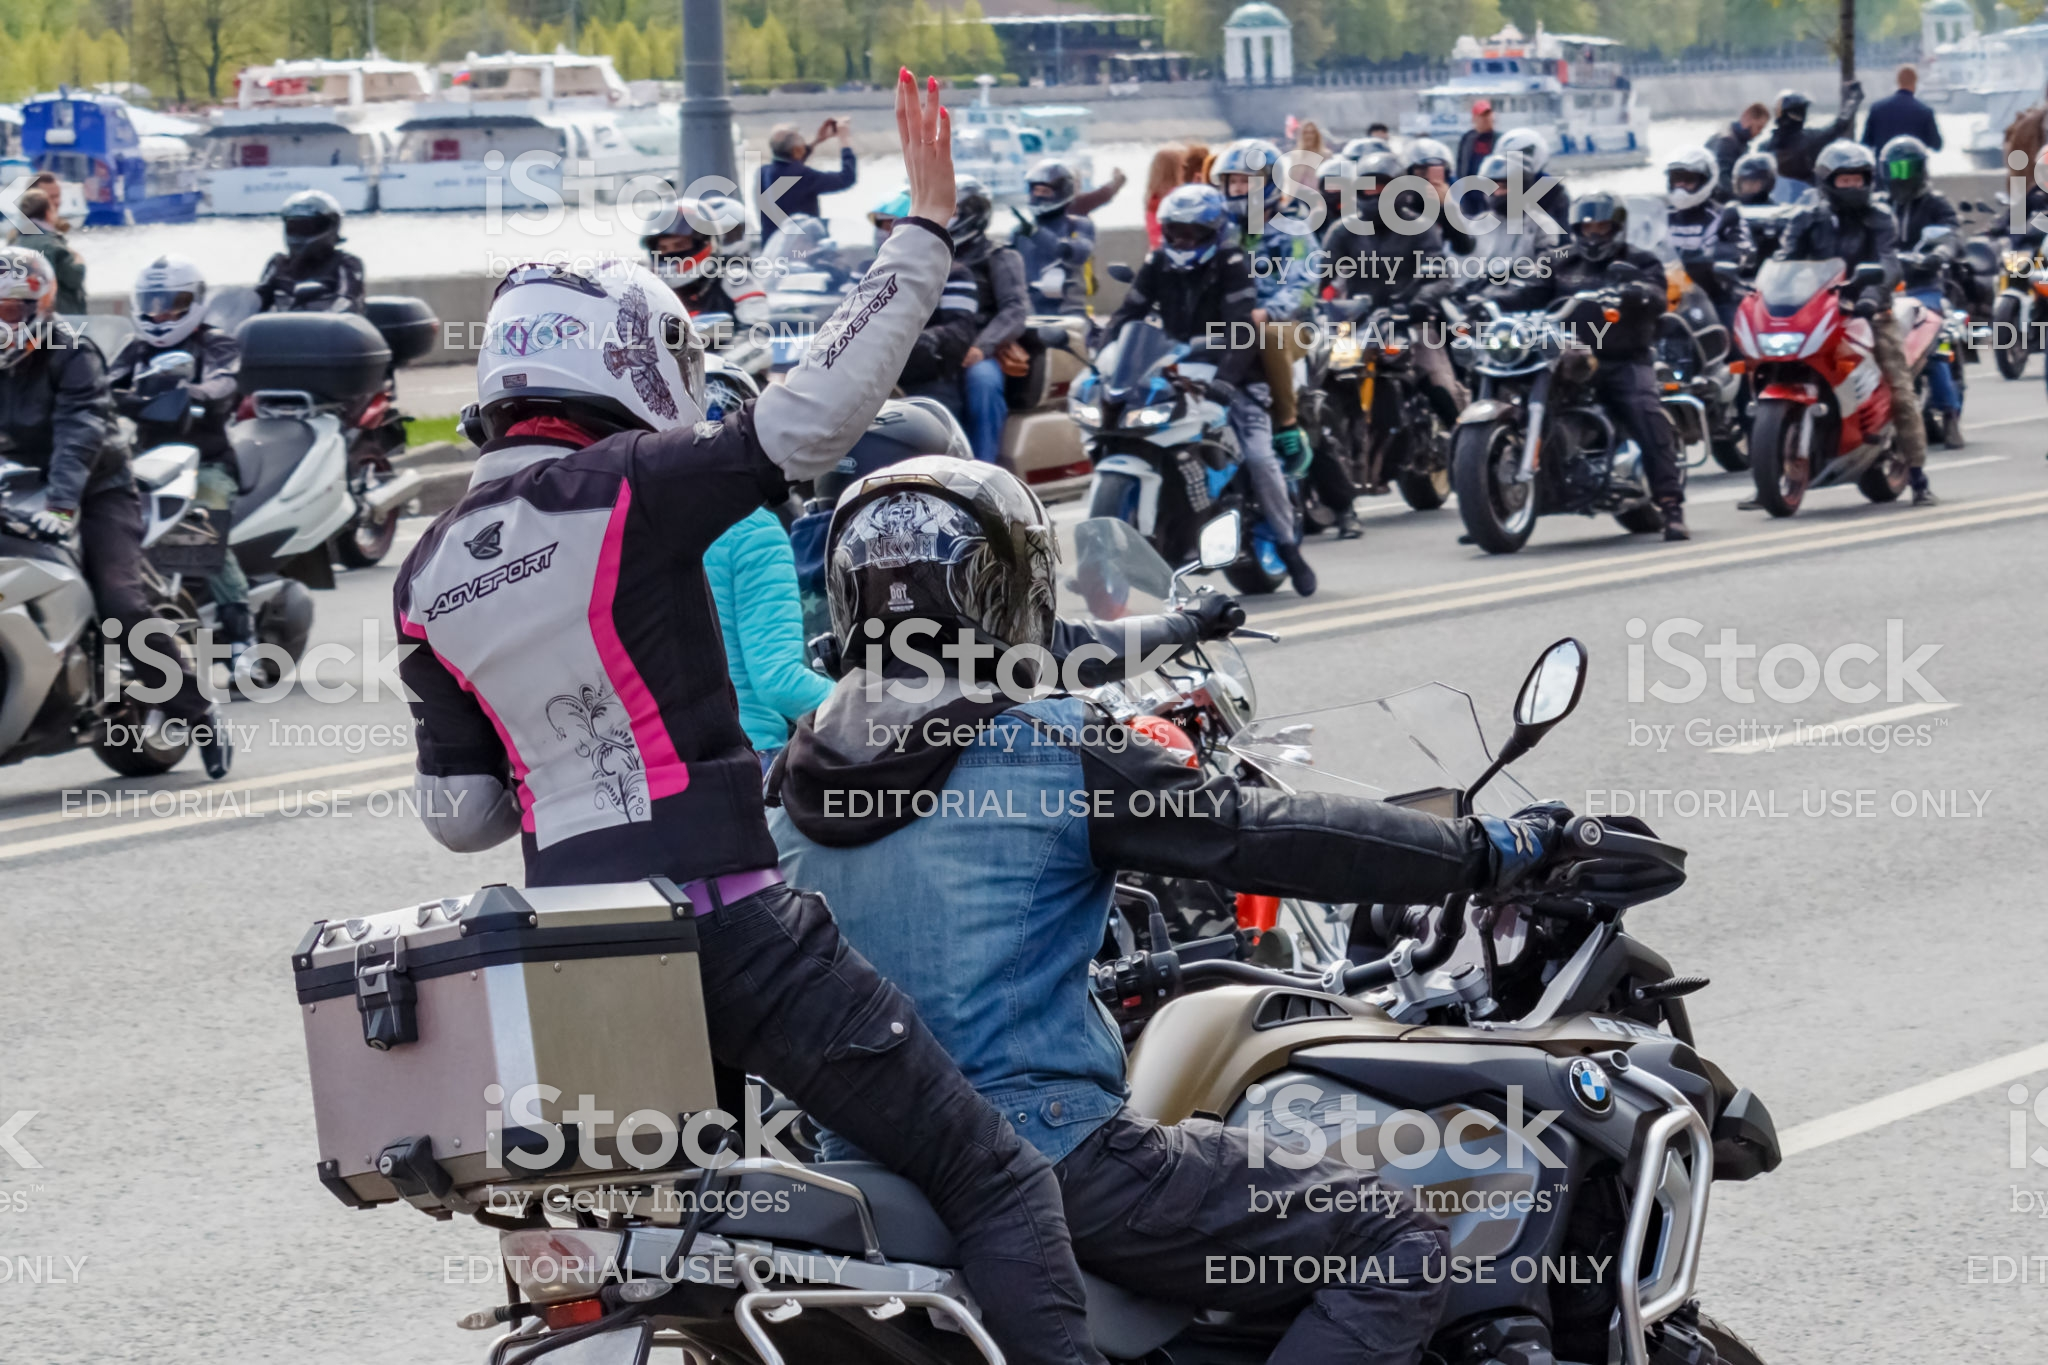helmet: (822, 463, 1090, 673), (467, 251, 729, 442), (1150, 190, 1246, 277), (643, 187, 717, 280)
